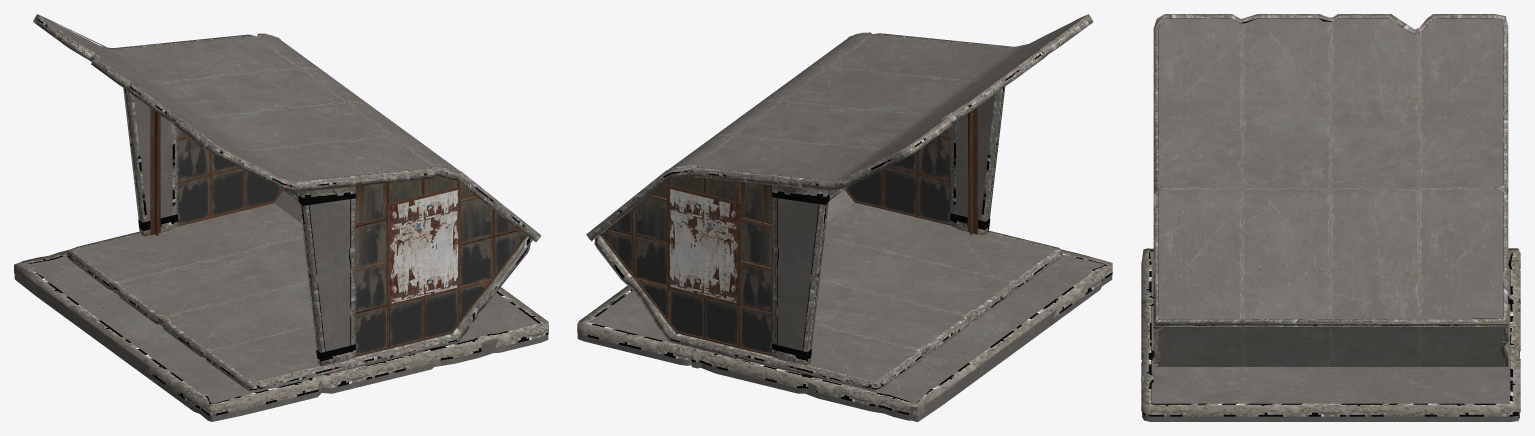
File: busstop.glb
The picture shows the model from 3 angles, left to right: view 1: azimuth 30°, elevation 25°; view 2: azimuth 150°, elevation 25°; view 3: azimuth 270°, elevation 25°; orthographic projection. The views are drawn at different scales.
Visible parts, largest first — view 1: bus_stop_a_LOD0; view 2: bus_stop_a_LOD0; view 3: bus_stop_a_LOD0.
Part boxes in pixels (<box>): bus_stop_a_LOD0: <box>14,14,548,421</box>; bus_stop_a_LOD0: <box>577,14,1112,421</box>; bus_stop_a_LOD0: <box>1141,14,1520,421</box>.
Bounding box in the file's own units: 6.21 × 4.62 × 6.21.
Materials: 6 (6 with a texture image).
